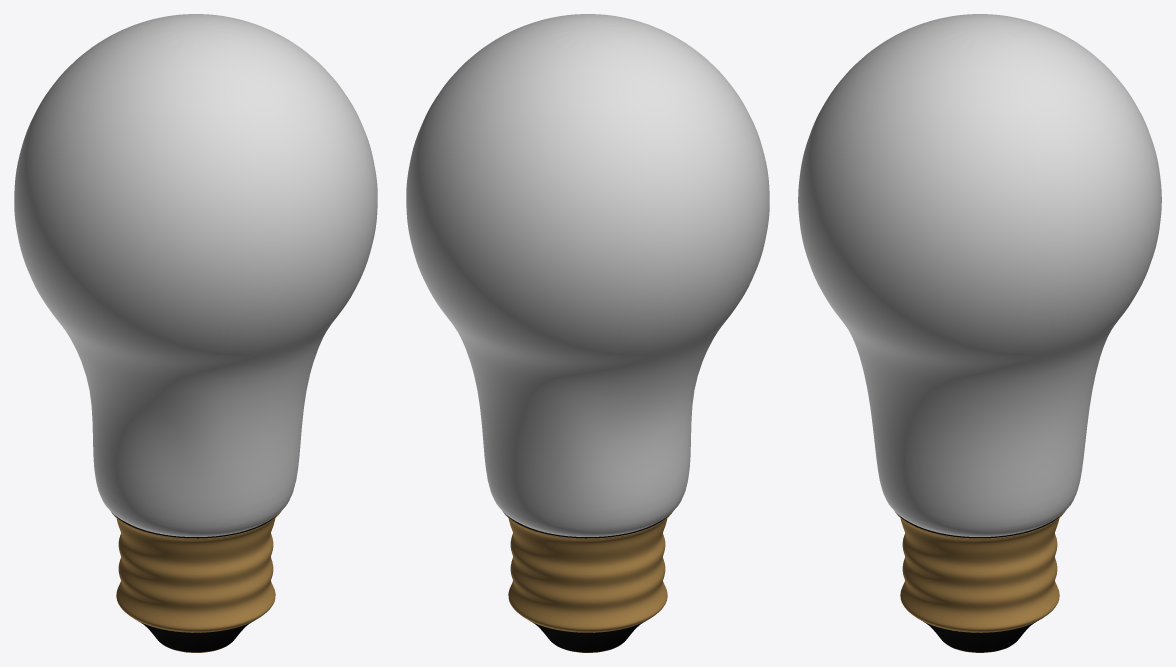
Rendered from bulb.glb.
The picture shows the model from 3 angles, left to right: view 1: azimuth 30°, elevation 25°; view 2: azimuth 150°, elevation 25°; view 3: azimuth 270°, elevation 25°; orthographic projection.
Visible parts, largest first — view 1: glass0, Cylinder.001; view 2: glass0, Cylinder.001; view 3: glass0, Cylinder.001.
Part boxes in pixels (x1,y1,x2,y2): glass0: (14,14,377,536); Cylinder.001: (111,511,281,652); glass0: (406,14,769,536); Cylinder.001: (502,511,672,652); glass0: (798,14,1161,536); Cylinder.001: (895,512,1064,652).
Size of the model in its own units: 0.0738 by 0.1365 by 0.0738.
3 materials, 1 textured.
